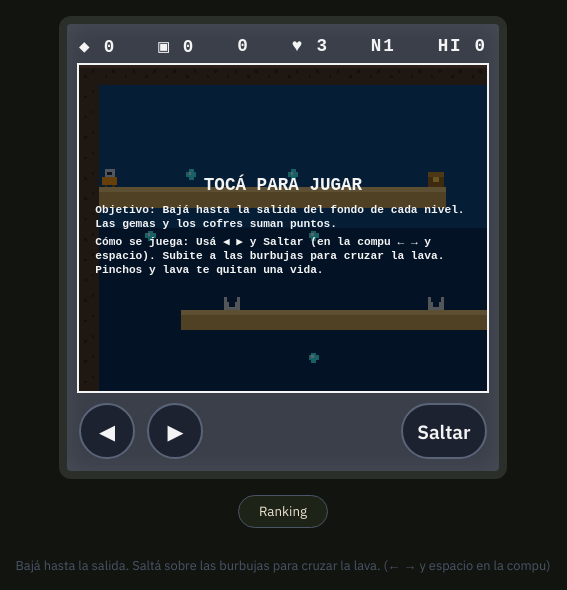
DeepAbyssPage › tiene botones en pantalla ◀ ▶ y Saltar que arrancan el juego sin scrollear
Check: the button named "Izquierda" is shown, box x1=79 y1=403 x2=135 y2=459
Check: the button named "Derecha" is shown, box x1=147 y1=403 x2=203 y2=459
Step 1. Press the mouse on the button "Saltar" → [444, 431], box x1=401 y1=403 x2=487 y2=459
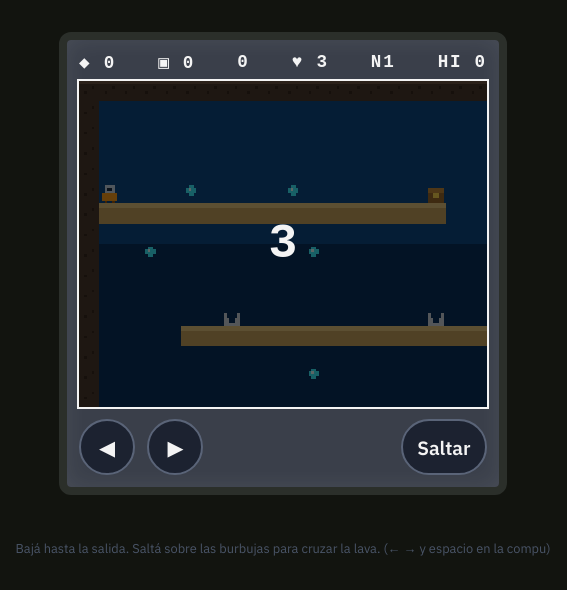
Check: the text "Tocá para jugar" is gone
